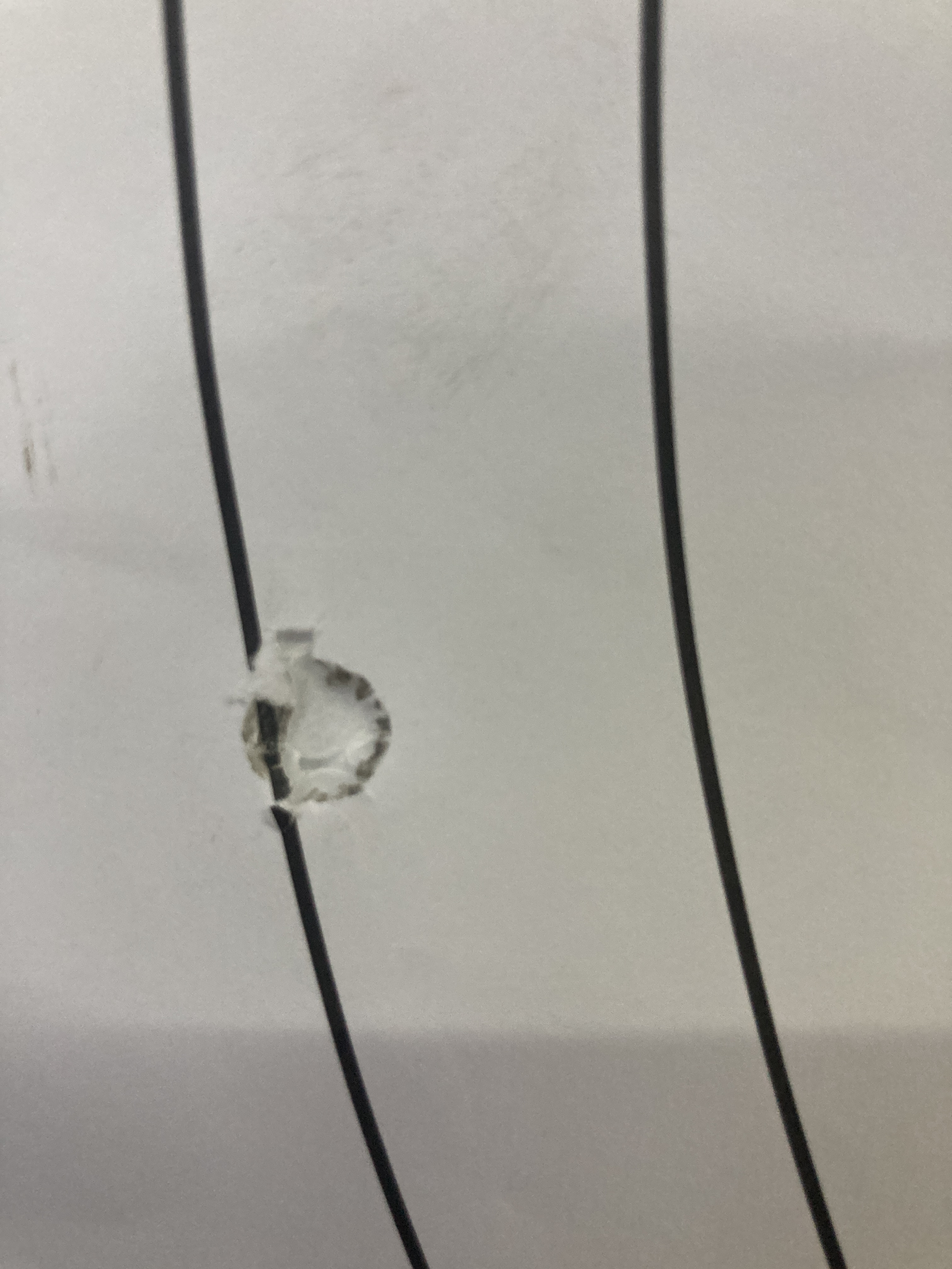hole: (220, 592, 453, 850)
